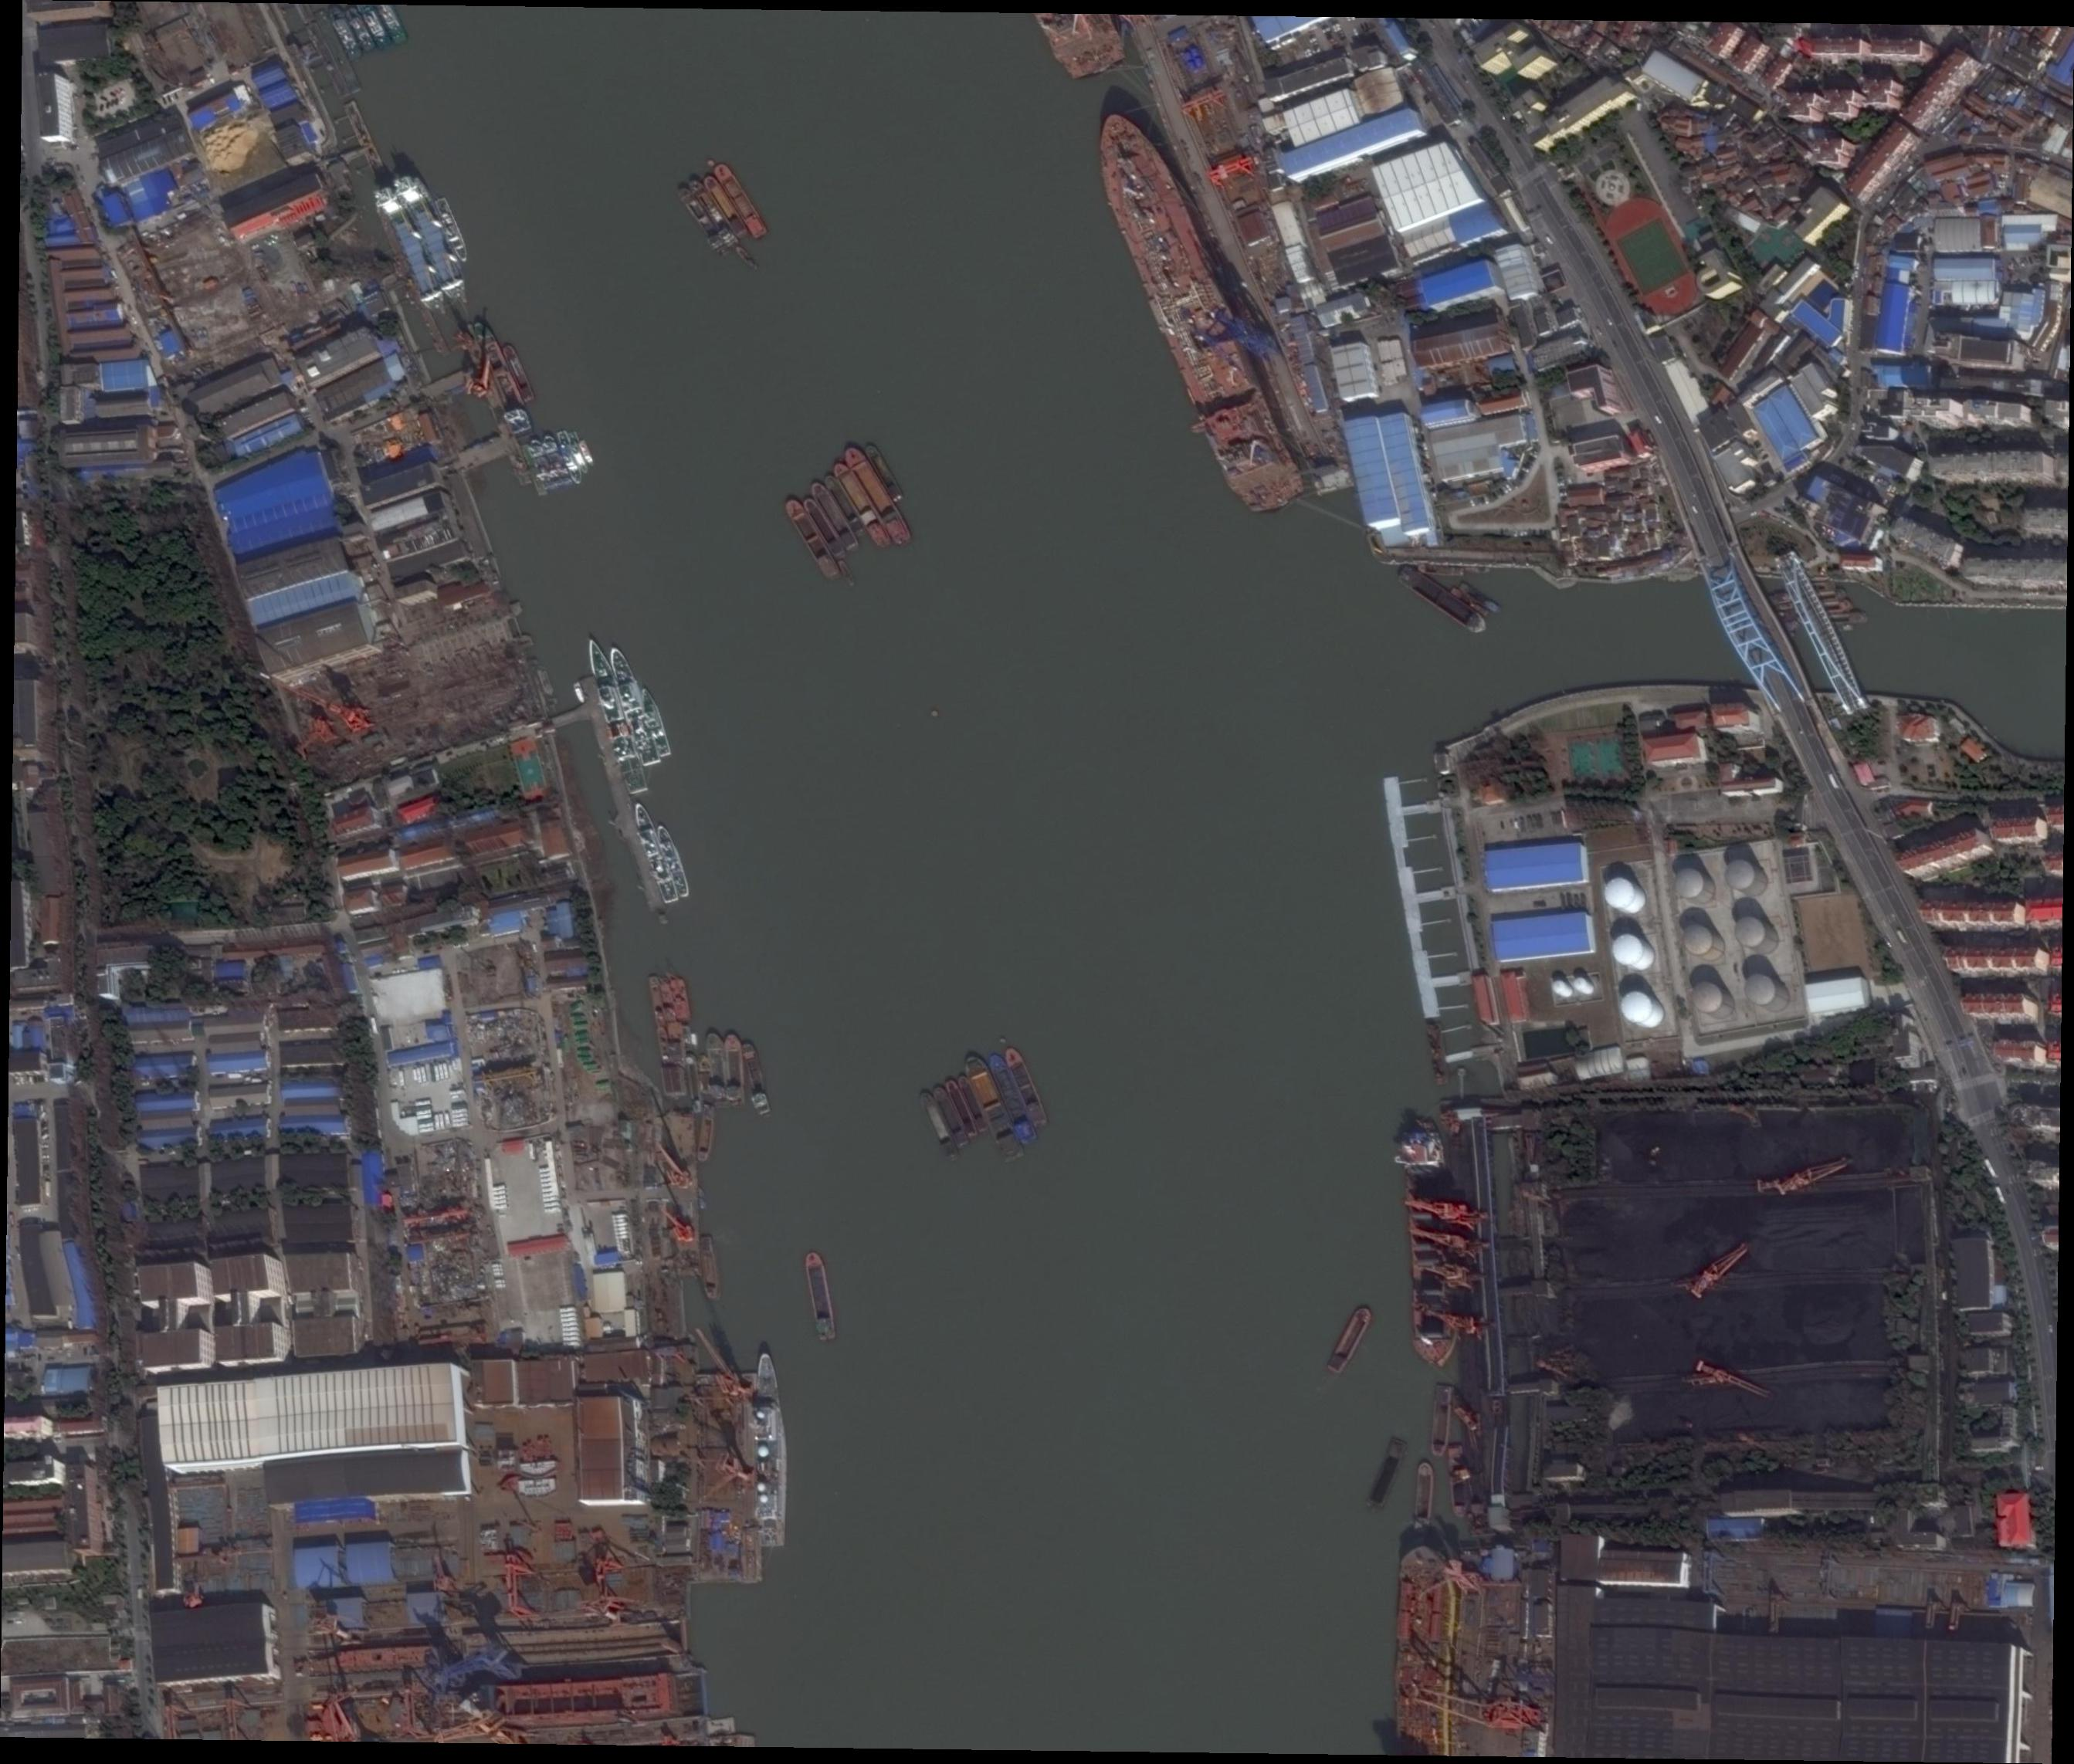harbor: (590, 714, 665, 910), (1442, 1022, 1474, 1036), (1421, 917, 1453, 927), (1398, 777, 1428, 787), (1428, 950, 1458, 961), (1409, 833, 1437, 844), (1458, 1067, 1467, 1099), (1414, 866, 1444, 875), (1439, 1003, 1470, 1010)
ship: (1078, 94, 1314, 525), (1390, 1543, 1463, 1755), (1402, 1123, 1458, 1370), (583, 635, 649, 794), (392, 173, 473, 304), (375, 184, 448, 315), (842, 445, 915, 549), (471, 317, 534, 437), (961, 1052, 1026, 1162), (1397, 563, 1491, 637), (607, 644, 662, 766), (754, 1353, 788, 1547), (833, 460, 894, 555), (985, 1050, 1040, 1148), (782, 495, 842, 584), (632, 800, 681, 905), (712, 161, 768, 240), (676, 185, 732, 261), (1003, 1043, 1050, 1130), (809, 479, 861, 556), (1325, 1302, 1377, 1377), (688, 177, 740, 248), (1365, 1437, 1409, 1514), (702, 171, 751, 240), (919, 1090, 963, 1164), (803, 1251, 838, 1342), (823, 472, 868, 539), (802, 495, 847, 560), (656, 823, 691, 899), (863, 443, 907, 504), (931, 1085, 971, 1150), (434, 196, 471, 264), (639, 686, 672, 758), (742, 1041, 774, 1115), (943, 1078, 980, 1139), (326, 5, 364, 61), (501, 343, 536, 402), (956, 1074, 991, 1134), (649, 975, 672, 1062), (541, 432, 574, 492), (527, 437, 560, 495), (357, 5, 396, 54), (340, 5, 378, 54), (705, 1032, 728, 1108), (555, 429, 585, 485), (1430, 1386, 1453, 1458), (1411, 1459, 1435, 1526), (725, 1032, 746, 1108), (1447, 1445, 1468, 1519), (375, 5, 411, 45), (660, 980, 683, 1041), (700, 1235, 721, 1300), (697, 1104, 719, 1162), (1451, 584, 1489, 618), (684, 1052, 704, 1113), (669, 978, 691, 1022), (569, 432, 592, 474), (1829, 611, 1869, 626), (837, 558, 858, 588), (735, 243, 758, 269), (1822, 598, 1853, 614), (698, 1055, 711, 1094), (579, 441, 597, 467), (1815, 588, 1846, 602), (572, 681, 586, 705), (1811, 581, 1836, 590)
